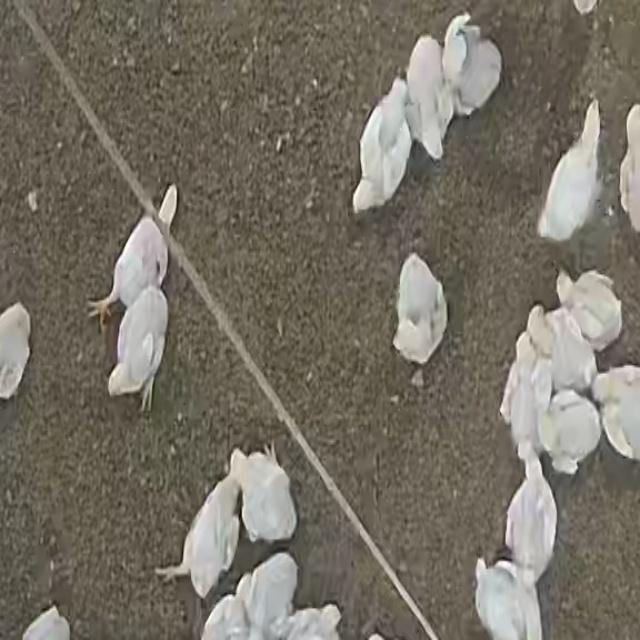chicken: (98, 190, 182, 312), (537, 101, 603, 243), (352, 81, 414, 213), (180, 470, 240, 599), (106, 289, 170, 405), (231, 443, 297, 546), (506, 456, 556, 586), (443, 14, 503, 121), (556, 267, 622, 353), (404, 35, 448, 158), (393, 256, 445, 360), (530, 306, 596, 387), (540, 389, 600, 475), (502, 335, 548, 447), (472, 559, 534, 640), (242, 553, 297, 635), (595, 368, 640, 462), (0, 304, 32, 399), (288, 595, 348, 640), (620, 107, 640, 234), (204, 597, 254, 640)
